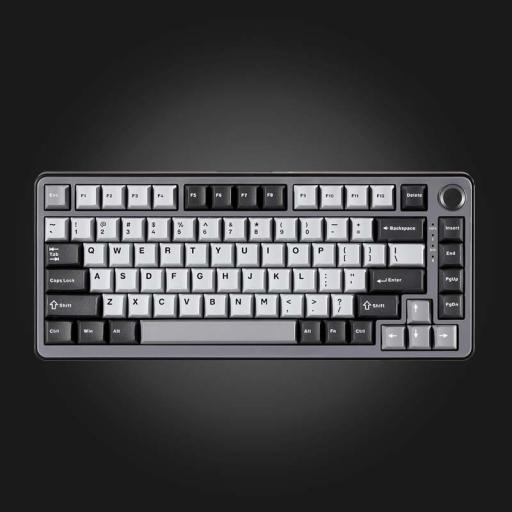KEYBOARD-2: (35, 172, 474, 359)
